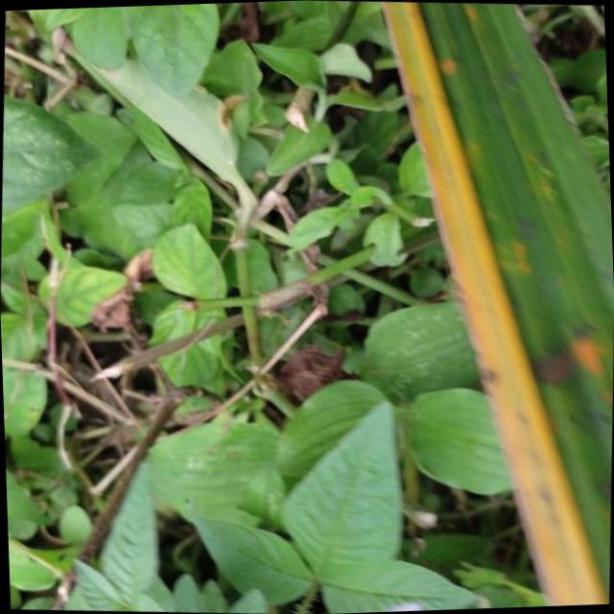Megnesium: (384, 0, 614, 614)
